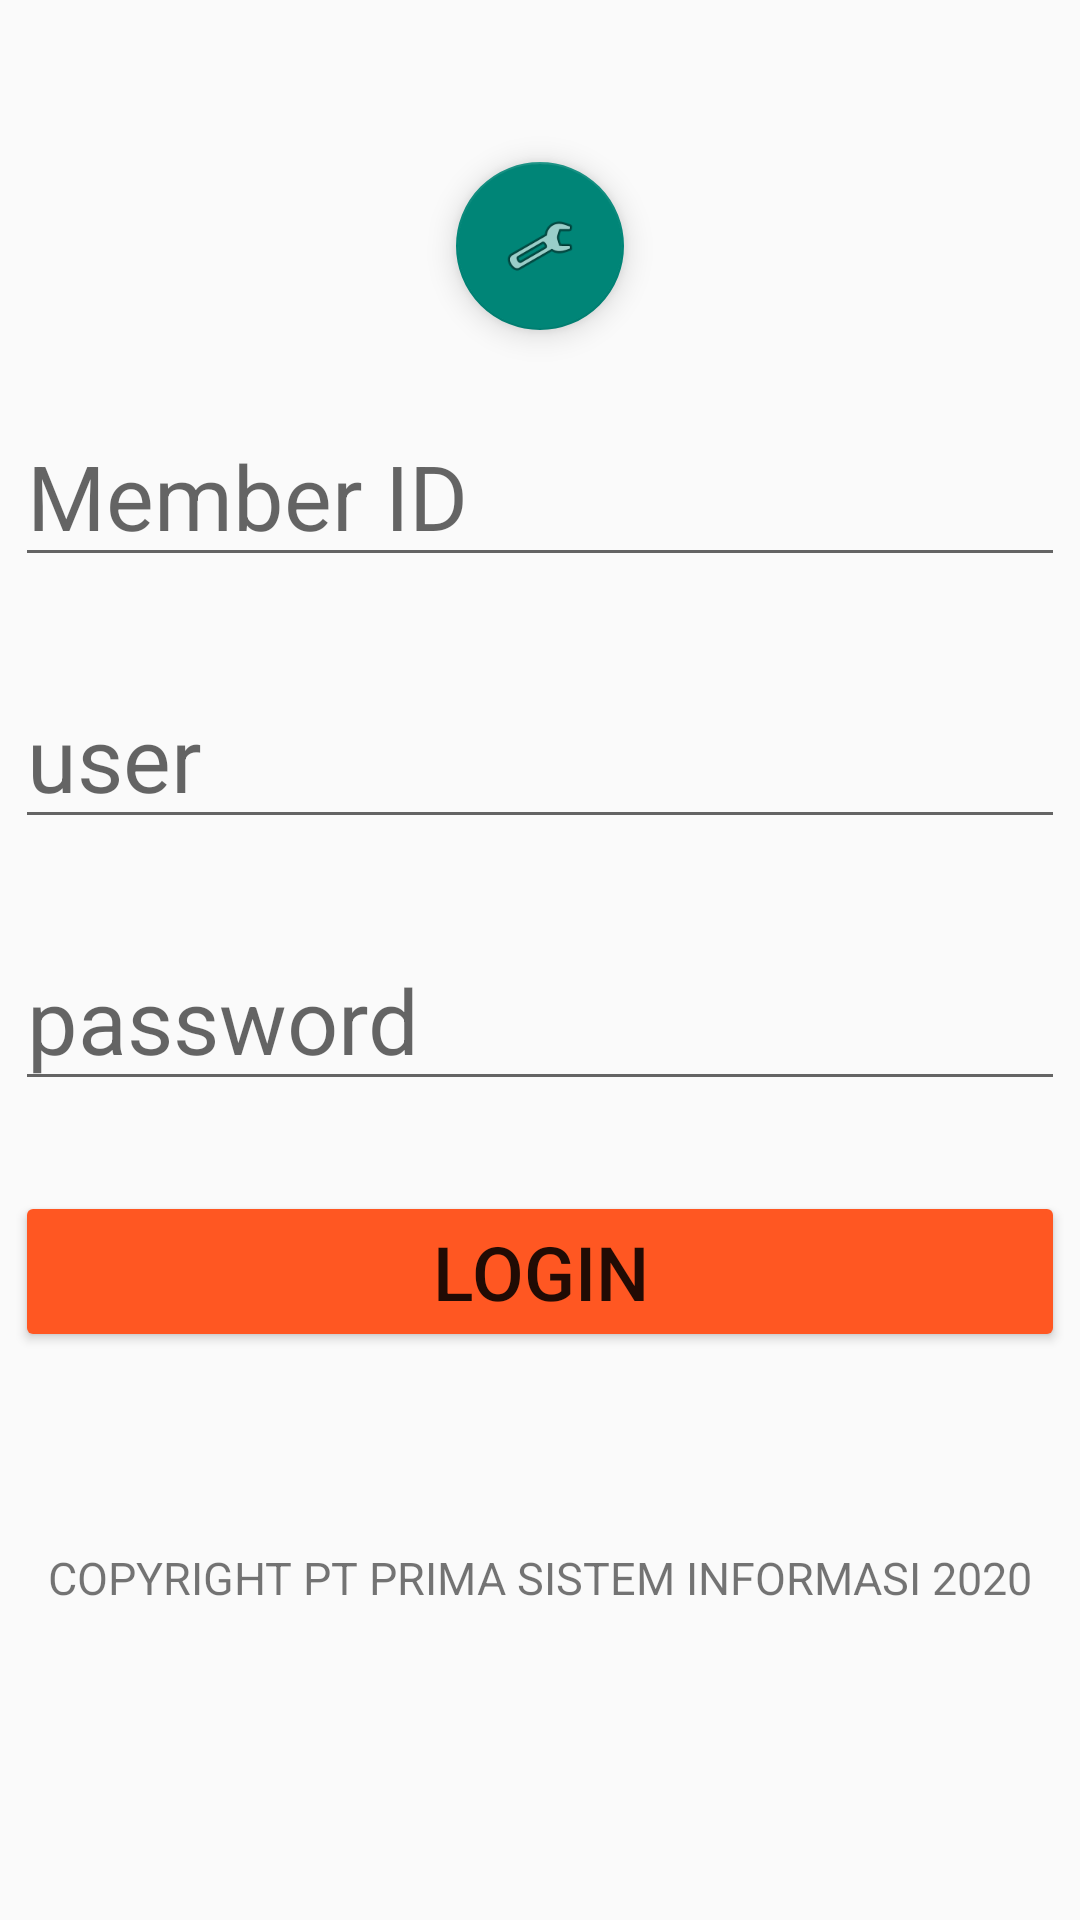

Screen size 1080px×1920px. Icon name, then its box in pixels as (x1, y1, x2, y2):
manage: (456, 162, 624, 330)
